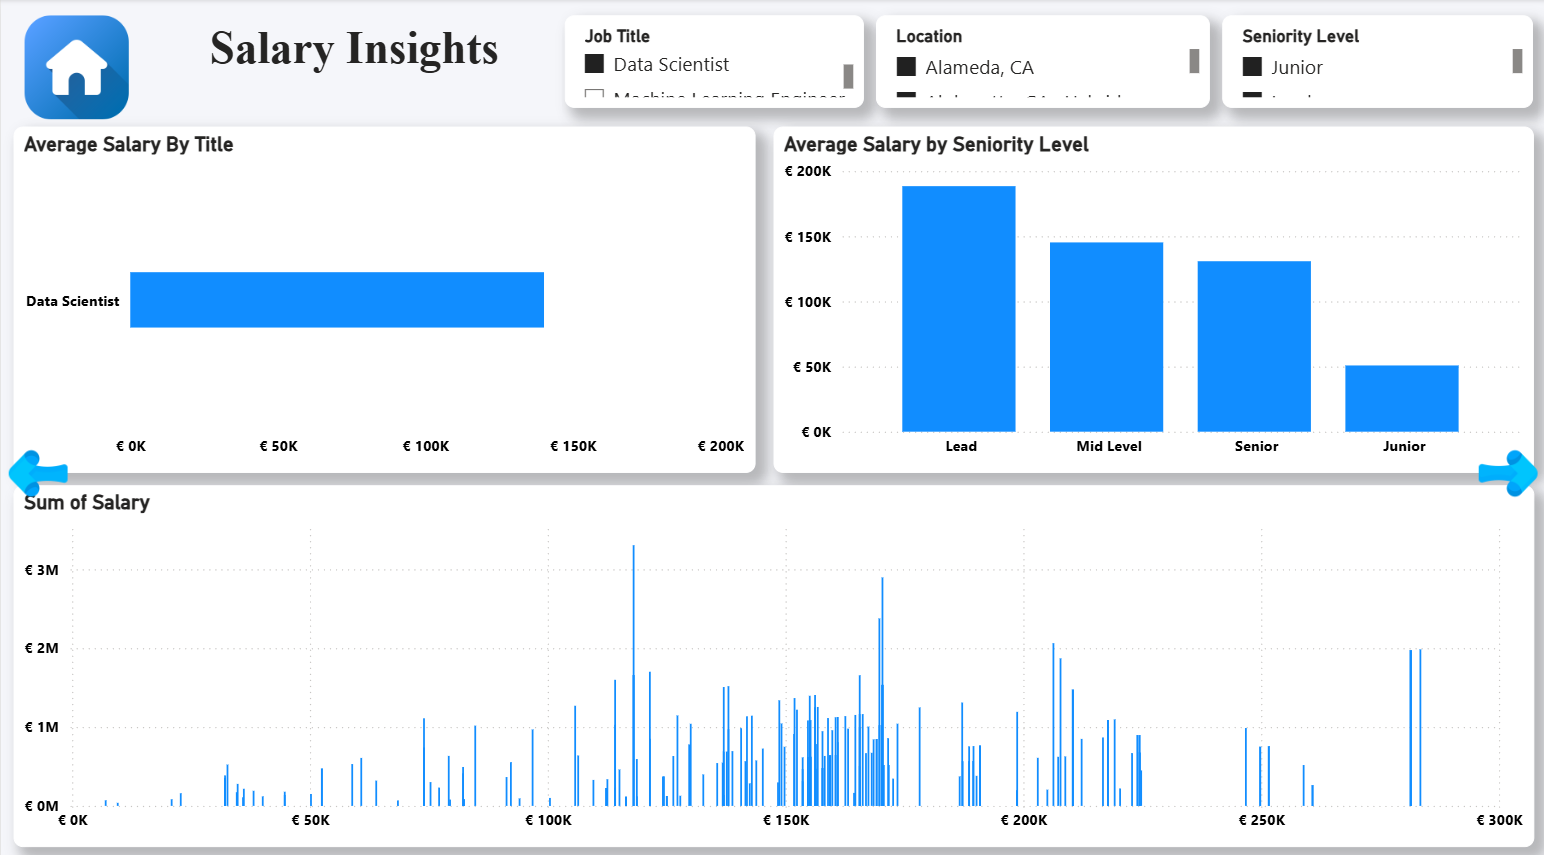

What the dashboard file says about the page in this screenshot:
{"tool":"powerbi","page":{"name":"Salary Insights","canvas":[1280,720],"ordinal":2},"visuals":[{"type":"textbox","box":[118.4,13.4,349.5,77],"z":0},{"type":"slicer","fields":{"Values":["data_science_job_posts_2025.Job Title"]},"box":[467.9,13.4,247.9,77],"z":1000},{"type":"slicer","fields":{"Values":["data_science_job_posts_2025.location"]},"box":[725.8,13.4,276.9,77],"z":2000},{"type":"slicer","fields":{"Values":["data_science_job_posts_2025.seniority_level"]},"box":[1012.8,13.4,257.9,77],"z":3000},{"type":"clusteredBarChart","title":"Average Salary By Title","fields":{"Category":["data_science_job_posts_2025.Job Title"],"Y":["data_science_job_posts_2025.Avg Salary"]},"box":[10.5,105.8,615.1,287.2],"z":4000},{"type":"clusteredColumnChart","title":"Average Salary by Seniority Level","fields":{"Category":["data_science_job_posts_2025.seniority_level"],"Y":["data_science_job_posts_2025.Avg Salary"]},"box":[640.7,105.8,630.2,287.2],"z":5000},{"type":"columnChart","title":"Sum of Salary","fields":{"Category":["data_science_job_posts_2025.Salary"],"Y":["Sum(data_science_job_posts_2025.Salary)"]},"box":[10.5,403.5,1260.5,300],"z":6000},{"type":"image","box":[1218.2,368.5,61.4,49.1],"z":8500},{"type":"image","box":[0,368.5,61.4,49.1],"z":9000},{"type":"image","box":[15.1,14,94.2,86],"z":9001}]}

Visuals, with their boxes in screenshot pixels (x1, y1, x2, y2), scaled from the page's 1280x720 canvas onto the 1544x855 screenshot:
textbox: 143:16:564:107
slicer - data_science_job_posts_2025.Job Title: 564:16:863:107
slicer - data_science_job_posts_2025.location: 875:16:1210:107
slicer - data_science_job_posts_2025.seniority_level: 1222:16:1533:107
"Average Salary By Title" clusteredBarChart: 13:126:755:467
"Average Salary by Seniority Level" clusteredColumnChart: 773:126:1533:467
"Sum of Salary" columnChart: 13:479:1533:835
image: 1469:438:1543:496
image: 0:438:74:496
image: 18:17:132:119
